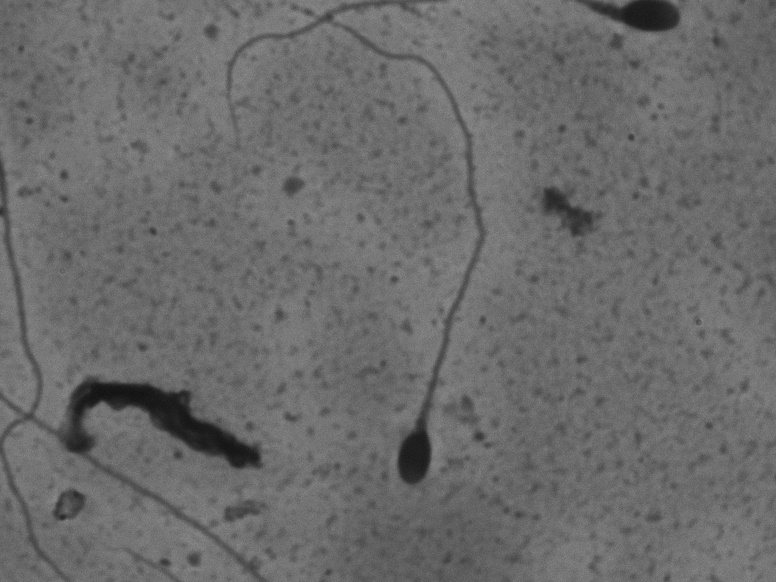Normal: (263, 16, 504, 490)
